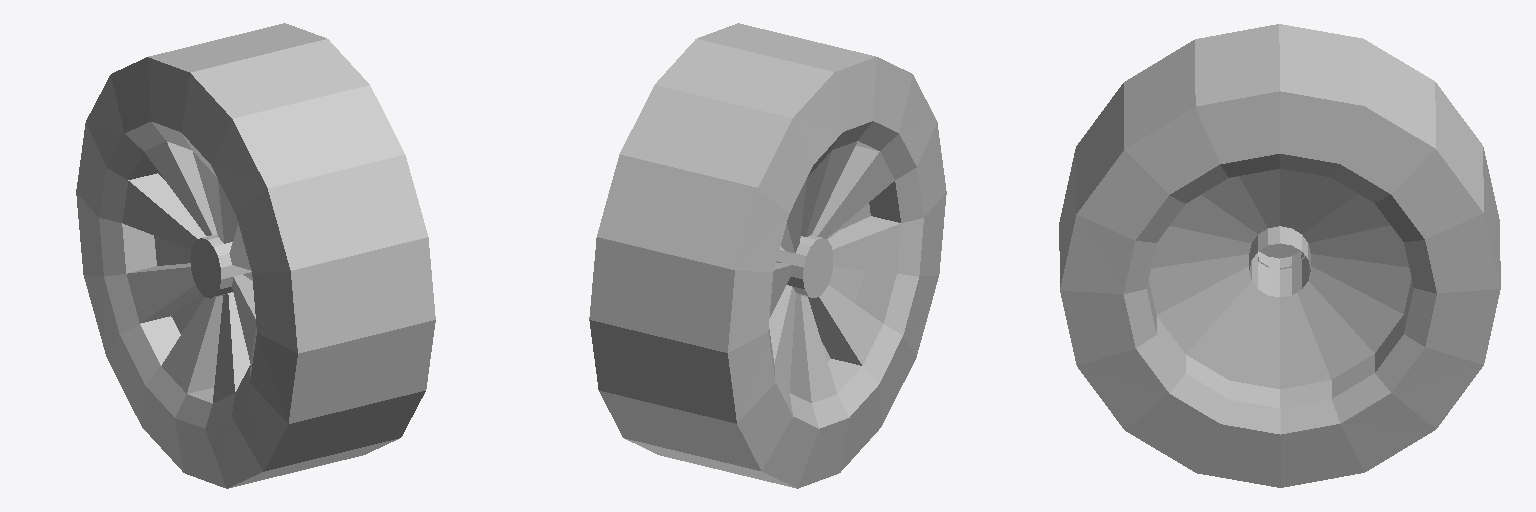
File: ruotaAS.obj
3 renders of one model, left to right at view 1: azimuth 30°, elevation 25°; view 2: azimuth 150°, elevation 25°; view 3: azimuth 270°, elevation 25°, orthographic.
Parts seen in each view (by area): view 1: Cube.002; view 2: Cube.002; view 3: Cube.002.
Boxes of the visible parts, x1=… form: Cube.002: x1=76, y1=23, x2=435, y2=488; Cube.002: x1=589, y1=23, x2=946, y2=488; Cube.002: x1=1059, y1=24, x2=1500, y2=487.
Bounding box in the file's own units: 0.2356 × 0.5537 × 0.5545.